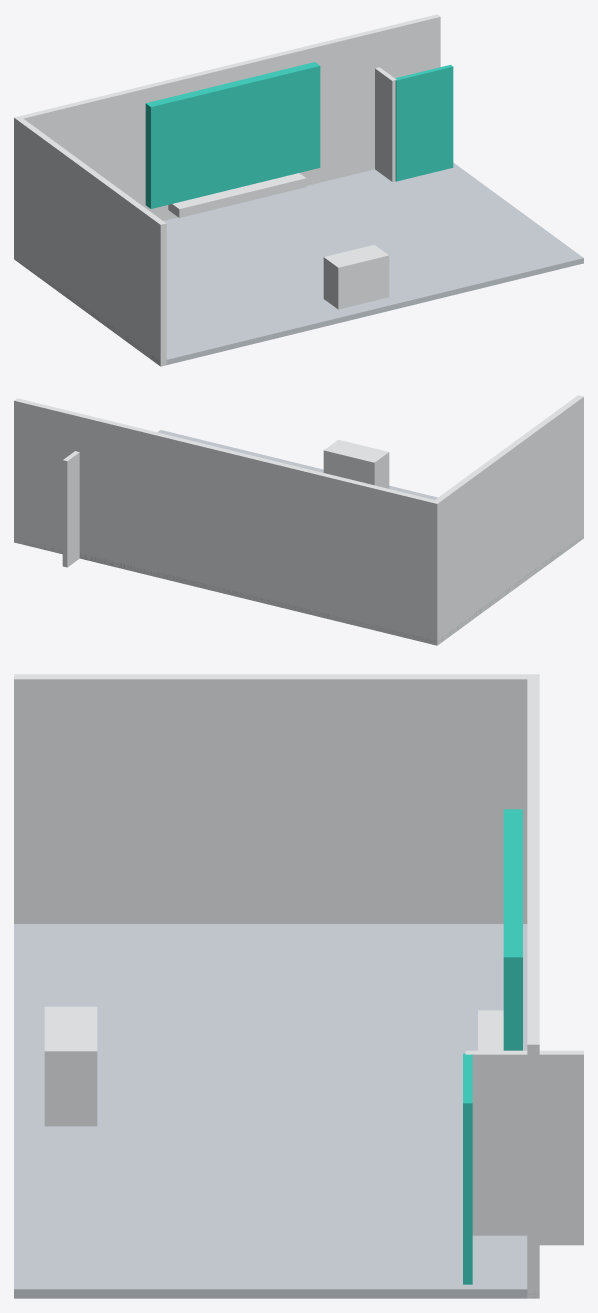
The picture shows the model from 3 angles, top to bottom: view 1: azimuth 30°, elevation 25°; view 2: azimuth 150°, elevation 25°; view 3: azimuth 270°, elevation 25°; orthographic projection. The views are drawn at different scales.
Parts seen in each view (by area): view 1: Exhibition Booth Concept; view 2: Exhibition Booth Concept; view 3: Exhibition Booth Concept.
Boxes of the visible parts, x1,y1,x2,y2 form: Exhibition Booth Concept: (14,14,583,366); Exhibition Booth Concept: (14,395,583,645); Exhibition Booth Concept: (14,674,583,1298).
Size of the model in its own units: 10 by 3.2 by 6.51.
